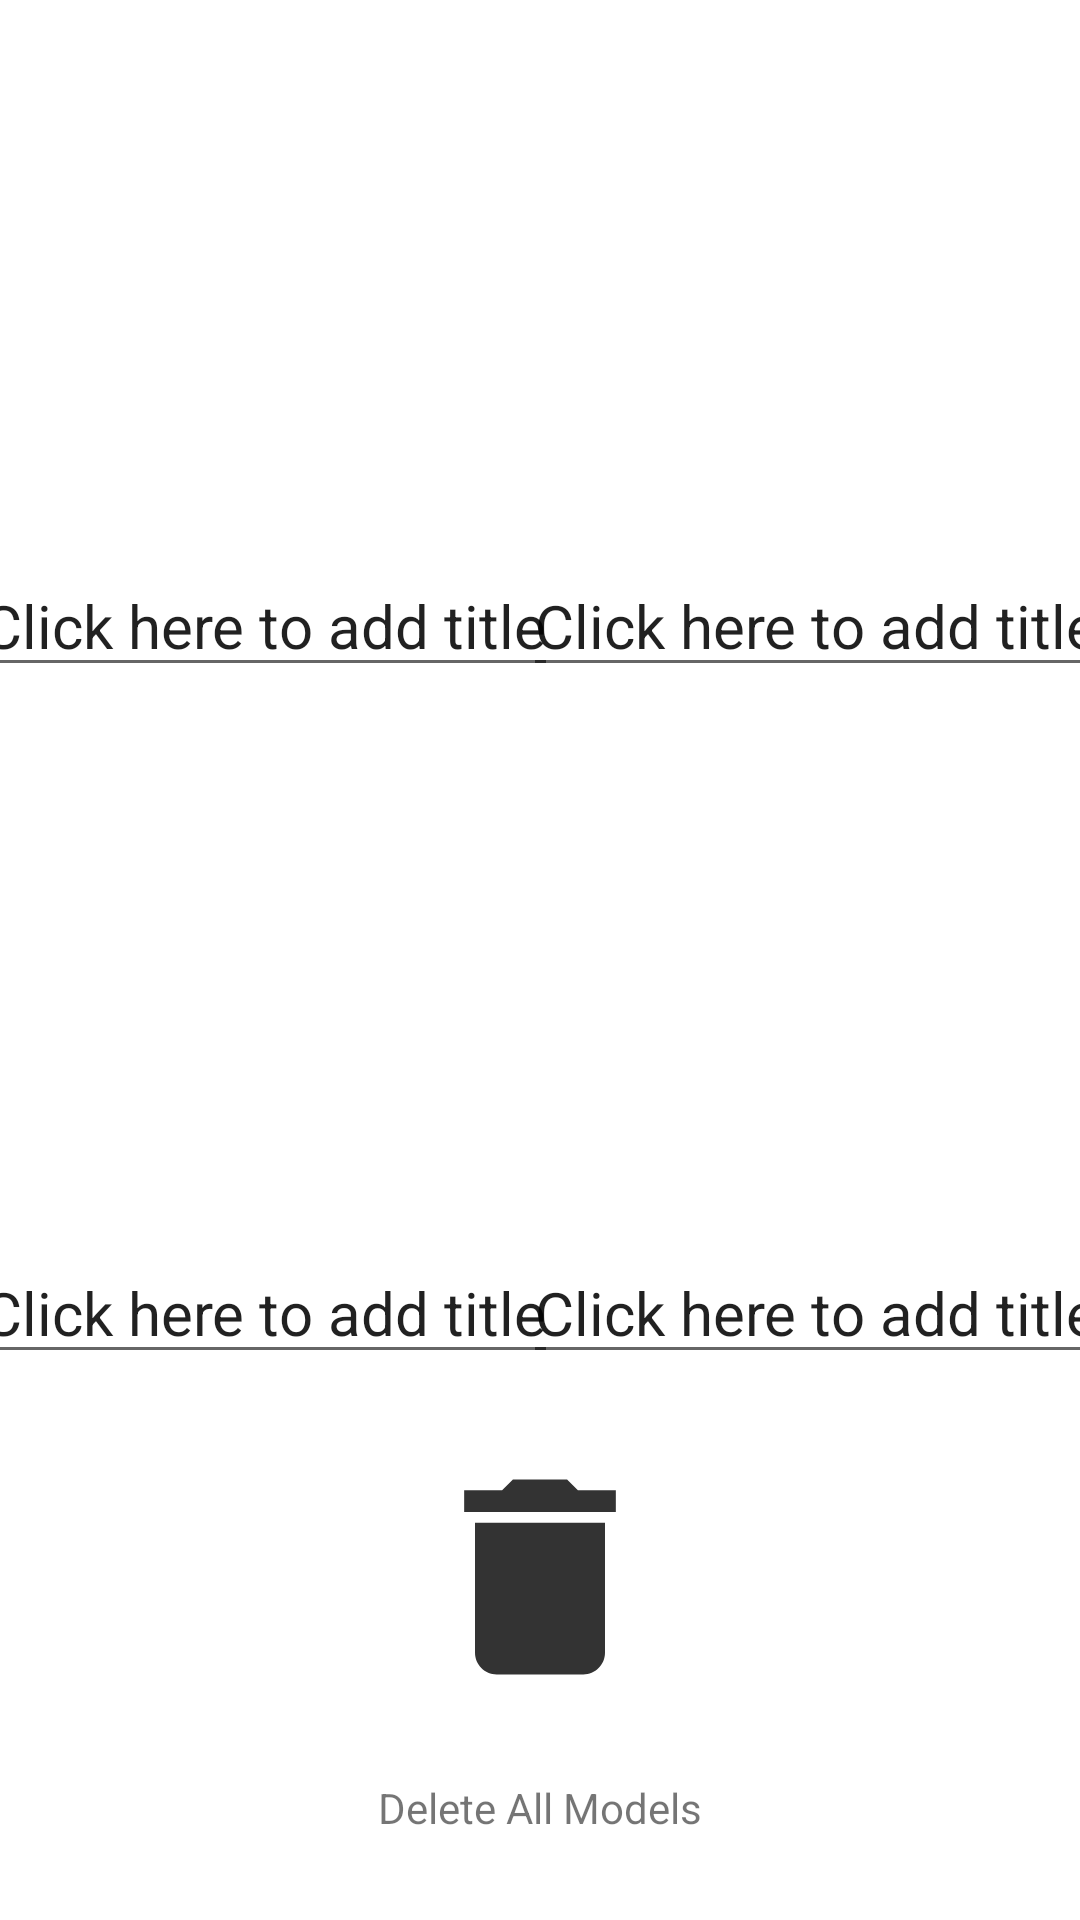

Where to tap for icons on this 1080 x 1920 app screen, as [x,y]:
bin: [540,1577]
